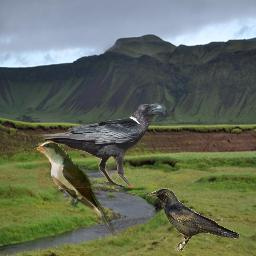Crow: (38, 102, 166, 188), (146, 188, 240, 251)
Cuckoo: (34, 139, 118, 236)
